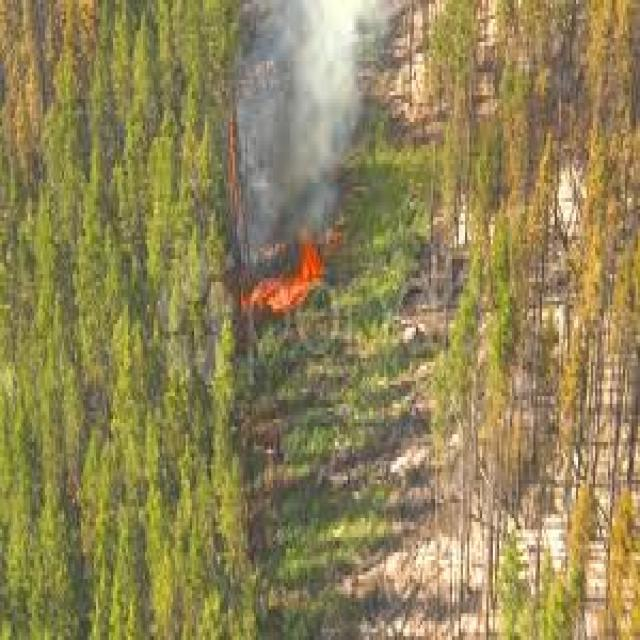Fire: (231, 228, 331, 330)
Smoke: (218, 0, 362, 247)
